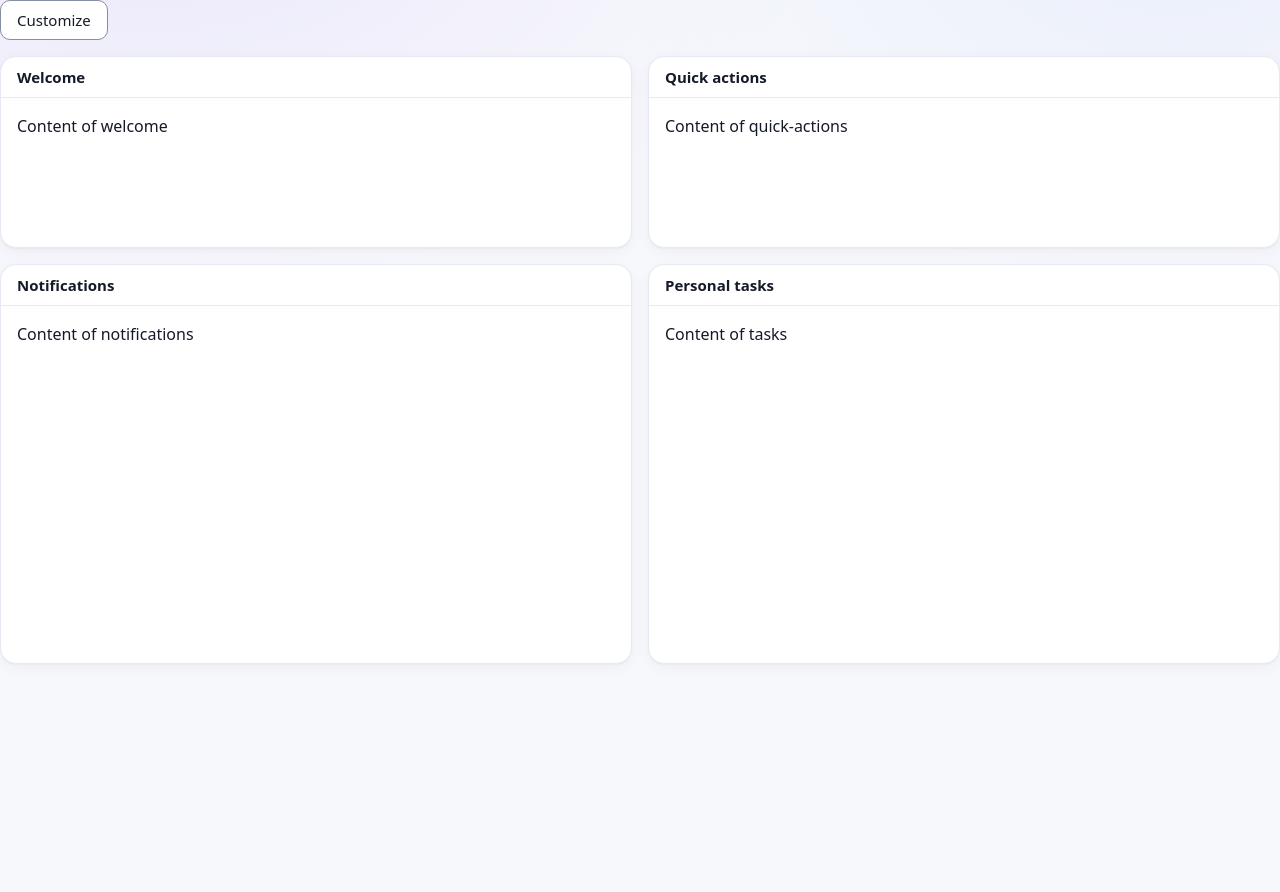
Test: DashboardBoard edit mode › makes widget content inert and labels each widget's arrange handle
The width and height of the screenshot is (1280, 892).
Click the button "Customize" at (54,20), box [0,0,108,40]
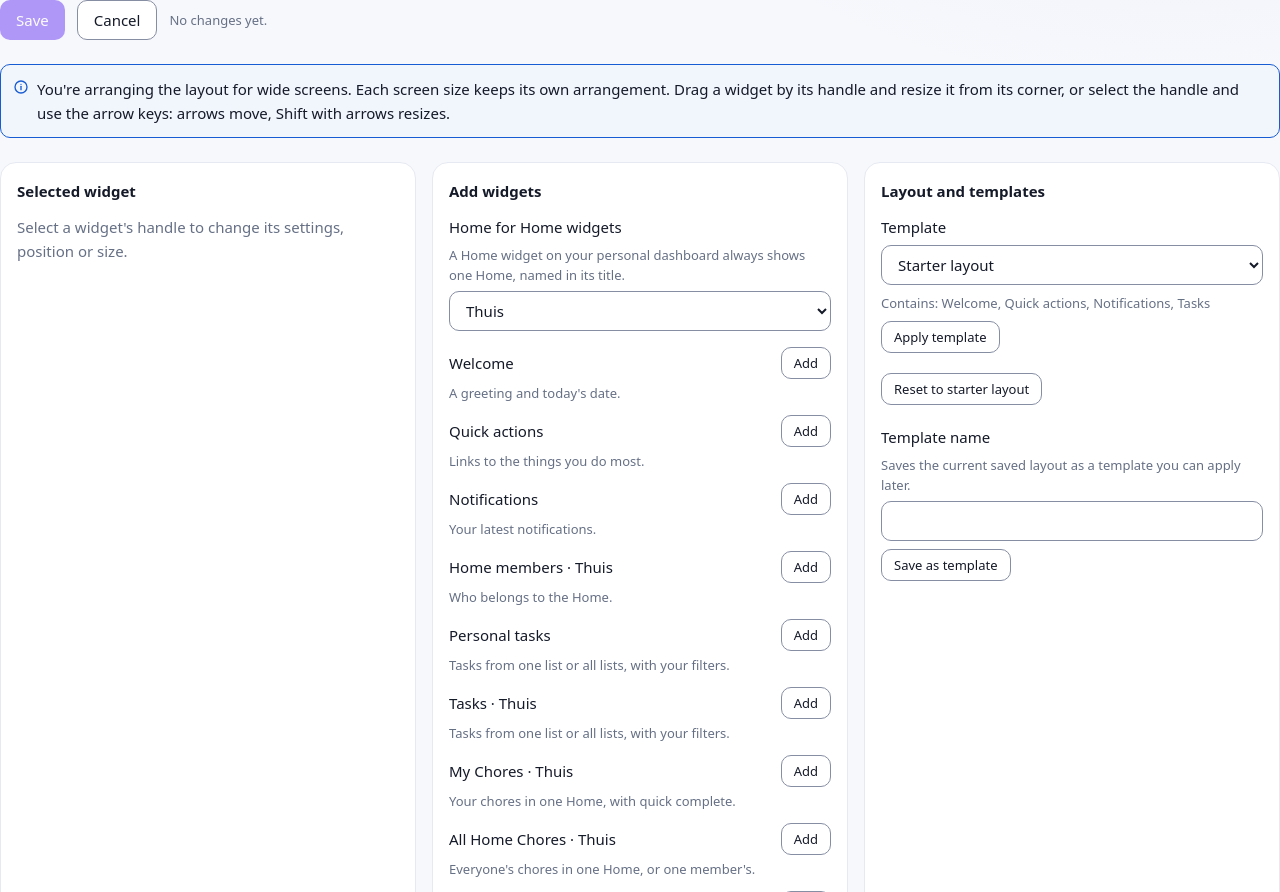
Expected: the button "Save" is disabled, [0,0,65,40]
